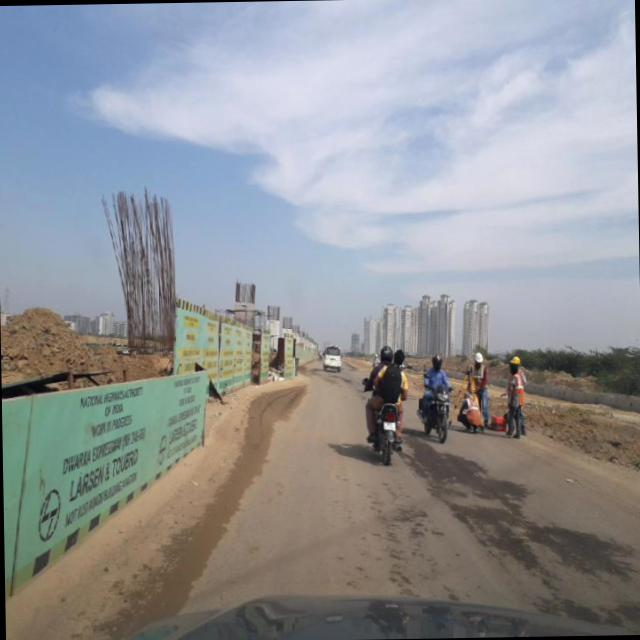crack: (526, 519, 638, 586)
